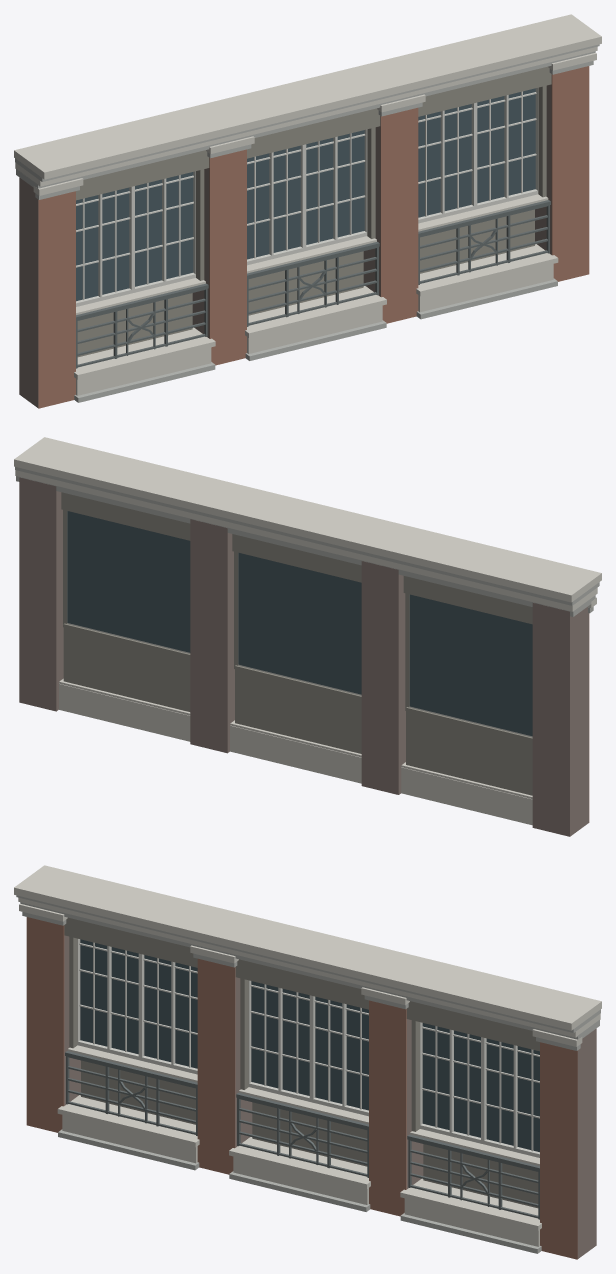
Rendered from xuhui-baoqing-no3-iron-gallery-lod.glb.
3 renders of one model, top to bottom at view 1: azimuth 30°, elevation 25°; view 2: azimuth 150°, elevation 25°; view 3: azimuth 330°, elevation 25°, orthographic.
Visible parts, largest first — view 1: 宝庆路20号花园住宅三号楼三跨铁栏廊; view 2: 宝庆路20号花园住宅三号楼三跨铁栏廊; view 3: 宝庆路20号花园住宅三号楼三跨铁栏廊.
Boxes of the visible parts, <box> form: 宝庆路20号花园住宅三号楼三跨铁栏廊: <box>14,14,601,408</box>; 宝庆路20号花园住宅三号楼三跨铁栏廊: <box>14,437,601,836</box>; 宝庆路20号花园住宅三号楼三跨铁栏廊: <box>14,865,601,1259</box>.
Size of the model in its own units: 8.24 by 3.44 by 0.78.
